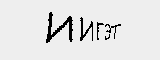І: (76, 14, 82, 36)
Д: (95, 12, 114, 43)
И: (27, 11, 60, 40), (82, 13, 95, 41)
Р: (113, 13, 131, 43)
Т: (58, 11, 76, 35)
